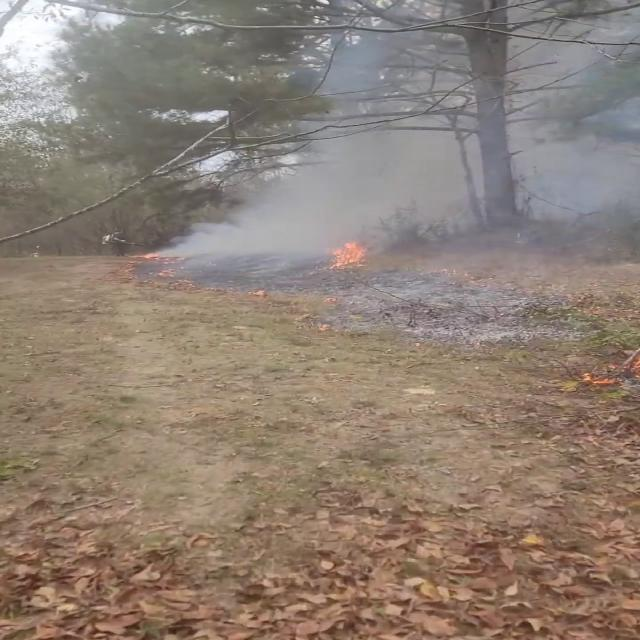Fire: (326, 235, 370, 273)
Smoke: (161, 0, 639, 288)
